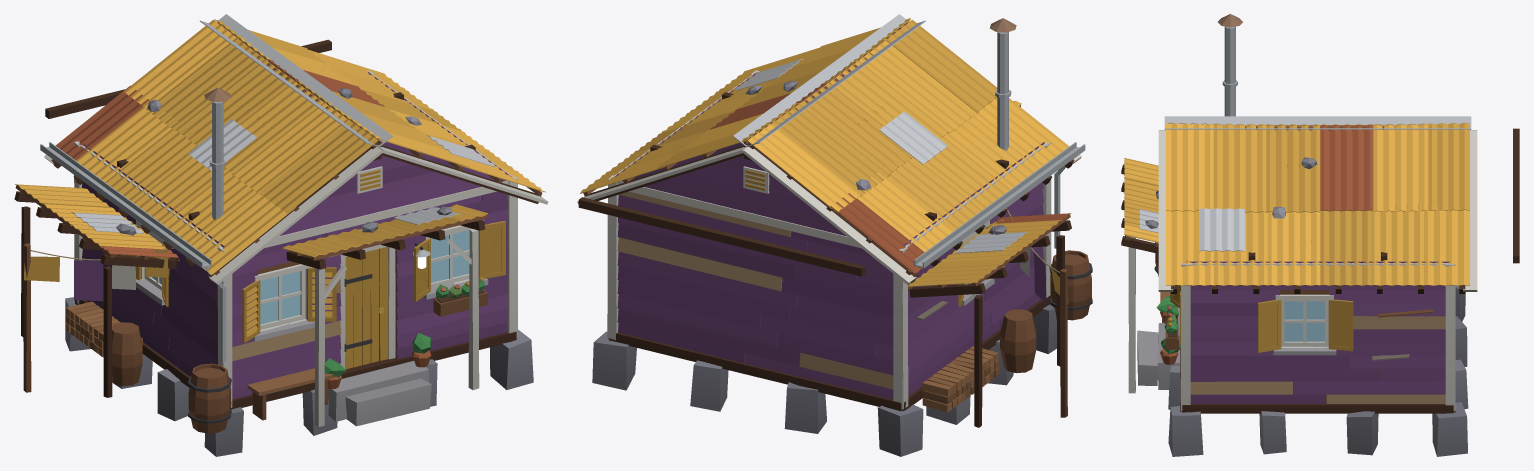
3 views of the same model, side by side, from view 1: azimuth 30°, elevation 25°; view 2: azimuth 150°, elevation 25°; view 3: azimuth 270°, elevation 25° (orthographic). The views are drawn at different scales.
Parts seen in each view (by area): view 1: H06_ROOF, H06_WALL_S, H06_WALL_W, H06_BASE, H06_DOOR_main; view 2: H06_ROOF, H06_WALL_N, H06_WALL_W, H06_BASE, H06_WALL_E; view 3: H06_ROOF, H06_WALL_E, H06_BASE, H06_WALL_S.
Boxes of the visible parts, x1,y1,x2,y2 form: H06_ROOF: (44,14,548,284); H06_WALL_S: (218,131,517,426); H06_WALL_W: (14,141,231,433); H06_BASE: (65,297,533,456); H06_DOOR_main: (344,246,388,369); H06_ROOF: (577,14,1081,284); H06_WALL_N: (607,130,907,409); H06_WALL_W: (899,142,1092,427); H06_BASE: (592,295,1056,456); H06_WALL_E: (609,70,759,333); H06_ROOF: (1158,14,1519,293); H06_WALL_E: (1181,261,1454,410); H06_BASE: (1137,285,1468,456); H06_WALL_S: (1121,158,1190,411).
Bounding box in the file's own units: 6.82 × 5.25 × 6.03.
